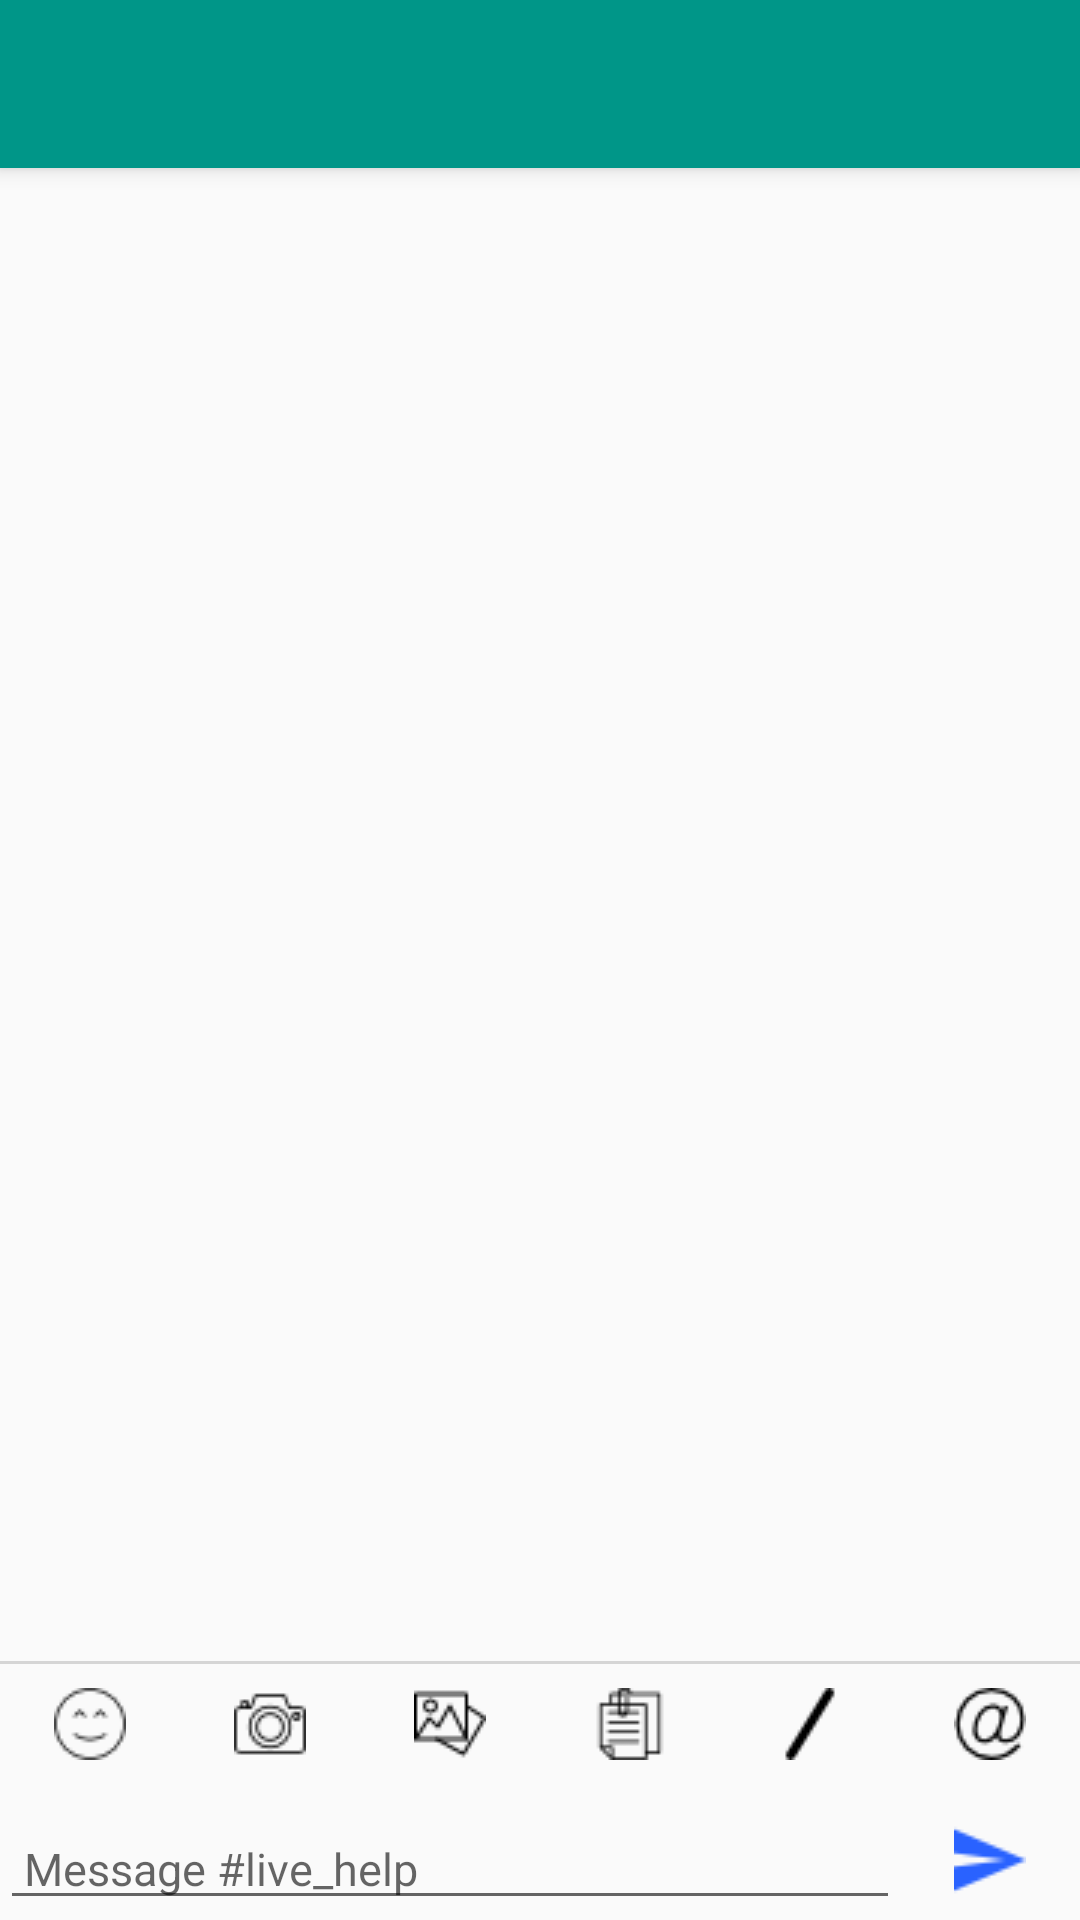

Icons on this 1080px×1920px Android screen, each with the point to tap as point (x, y):
arroba: point (990, 1724)
attach: point (630, 1724)
gallery: point (450, 1724)
happy: point (90, 1724)
photo: point (270, 1724)
send: point (990, 1860)
